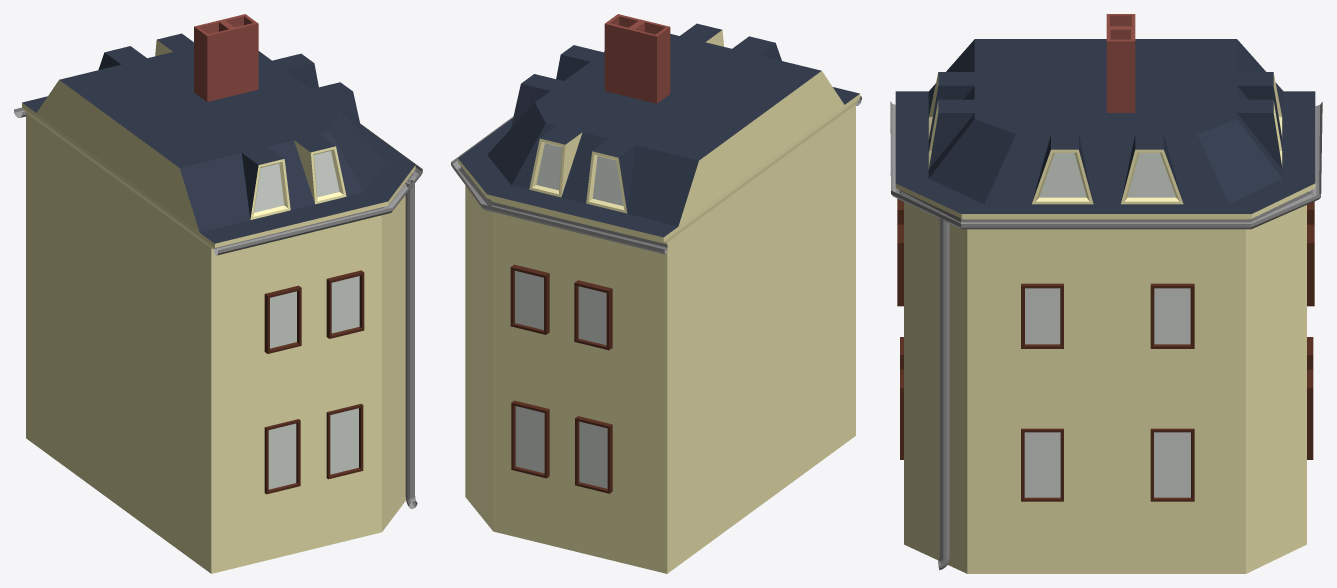
Rendered from house_end.fbx.
The picture shows the model from 3 angles, left to right: view 1: azimuth 30°, elevation 25°; view 2: azimuth 150°, elevation 25°; view 3: azimuth 270°, elevation 25°; orthographic projection. The views are drawn at different scales.
Parts seen in each view (by area): view 1: house_end; view 2: house_end; view 3: house_end.
Part boxes in pixels (x1,y1,x2,y2): house_end: (14, 14, 422, 573); house_end: (451, 14, 861, 573); house_end: (890, 14, 1322, 573).
Size of the model in its own units: 500 by 884 by 710.
